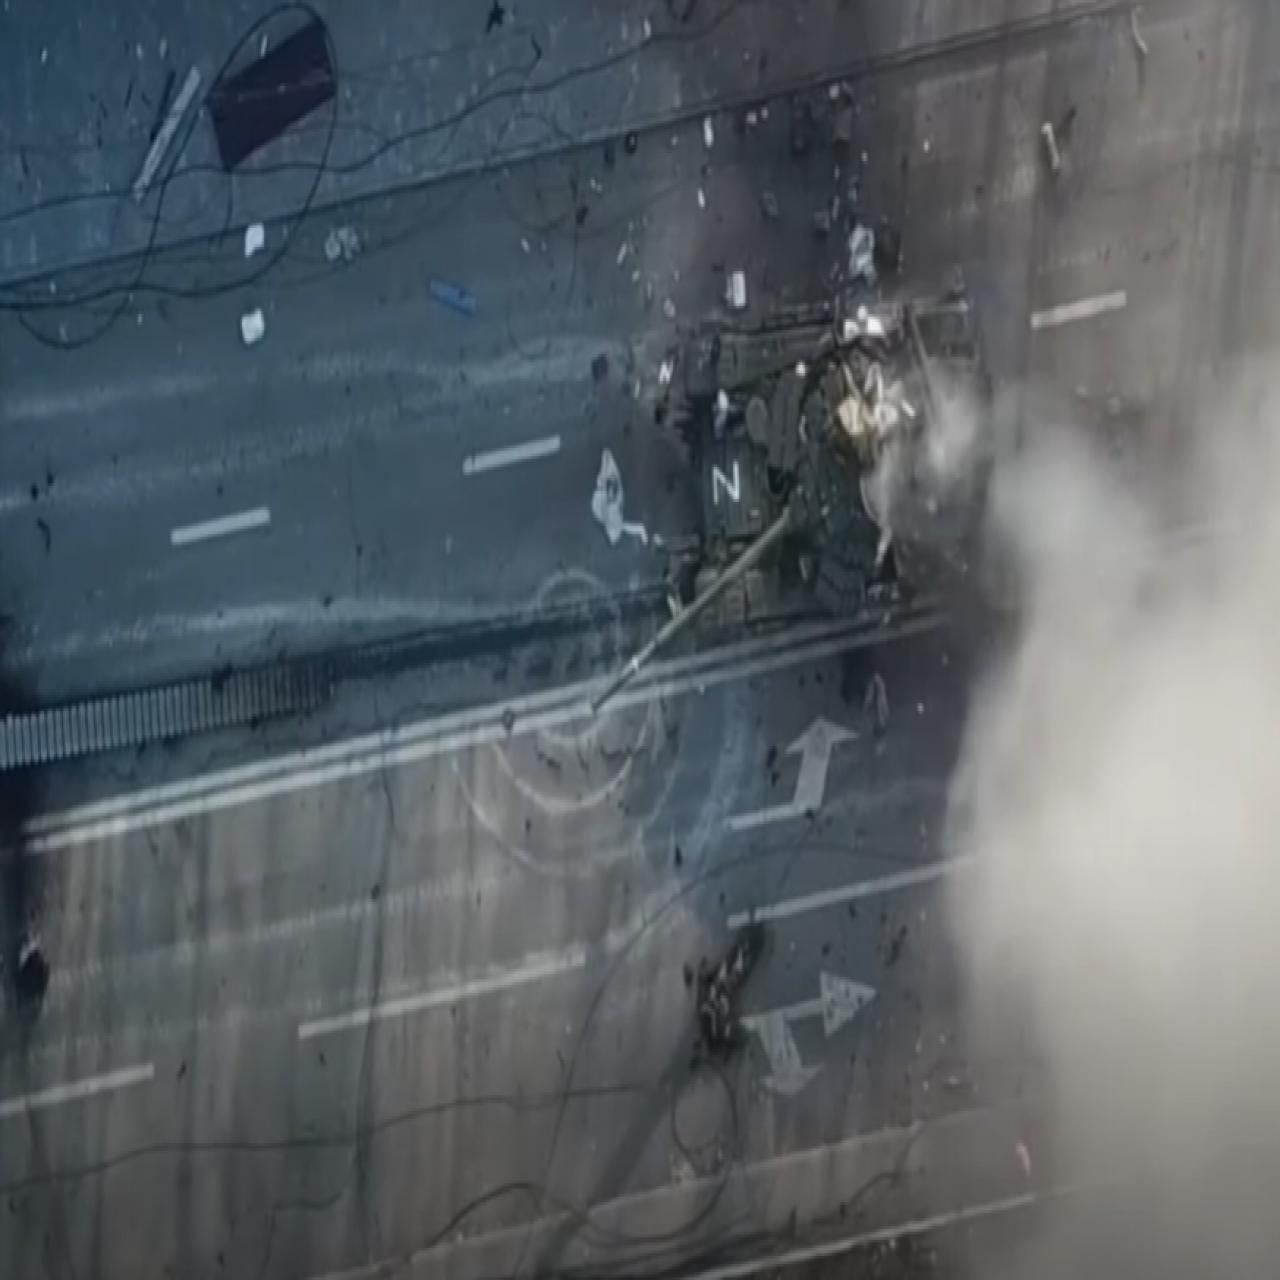MIL_Veh: (578, 293, 995, 714)
